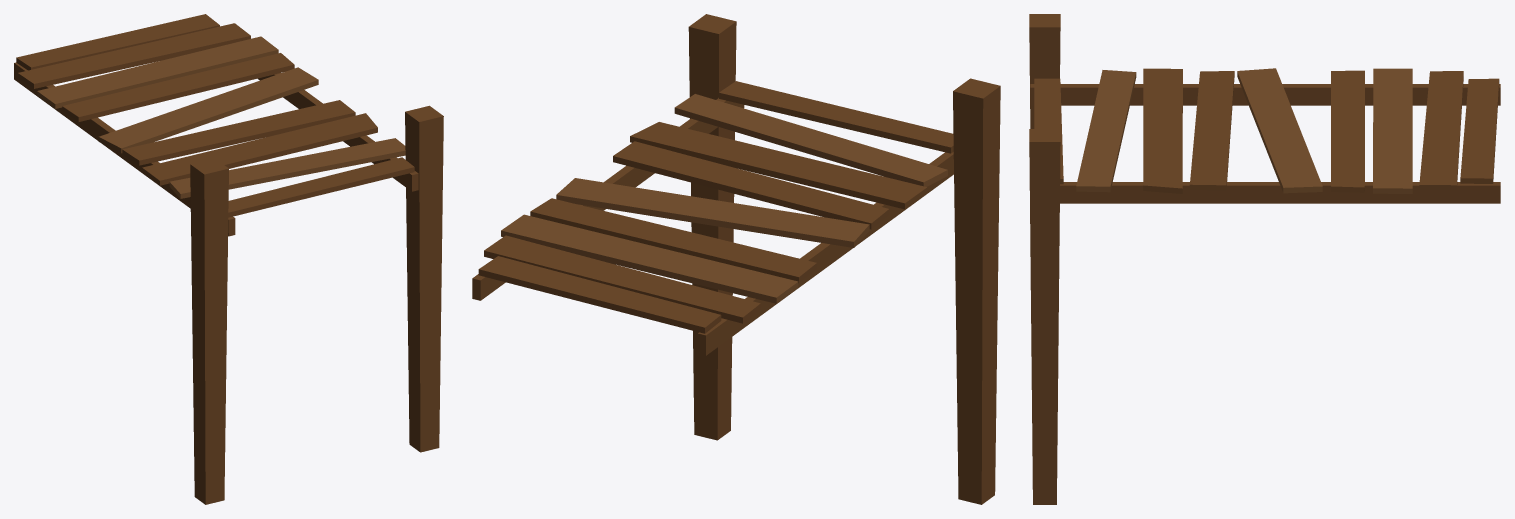
File: Pier_02.fbx
The picture shows the model from 3 angles, left to right: view 1: azimuth 30°, elevation 25°; view 2: azimuth 150°, elevation 25°; view 3: azimuth 270°, elevation 25°; orthographic projection. The views are drawn at different scales.
Visible parts, largest first — view 1: Pier_02; view 2: Pier_02; view 3: Pier_02.
Part boxes in pixels (x1,y1,x2,y2): Pier_02: (14, 14, 443, 504); Pier_02: (472, 14, 1000, 504); Pier_02: (1029, 14, 1500, 504).
Bounding box in the file's own units: 189 × 251 × 294.
